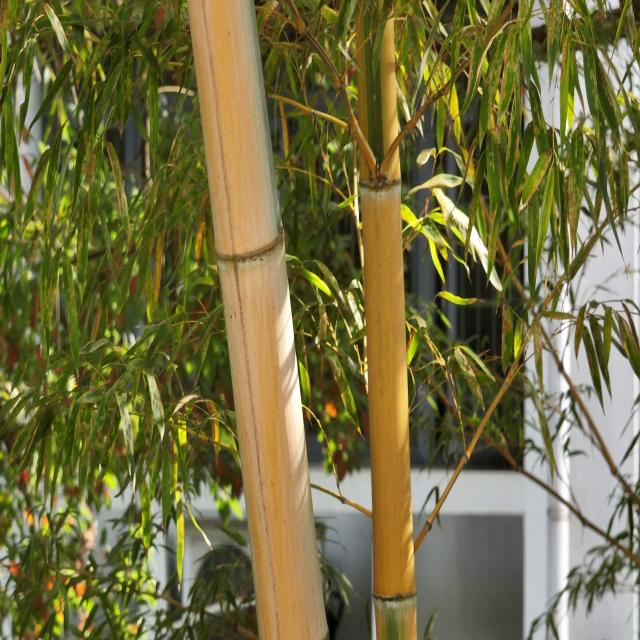Bamboo-shoots: (187, 0, 329, 640), (356, 0, 418, 640)
